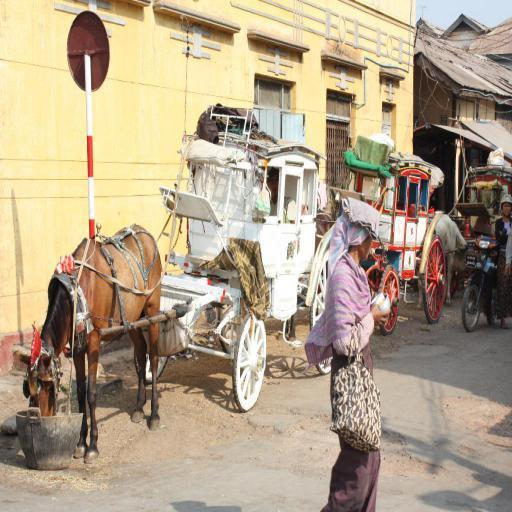horse: (24, 222, 164, 465), (430, 214, 468, 306)
